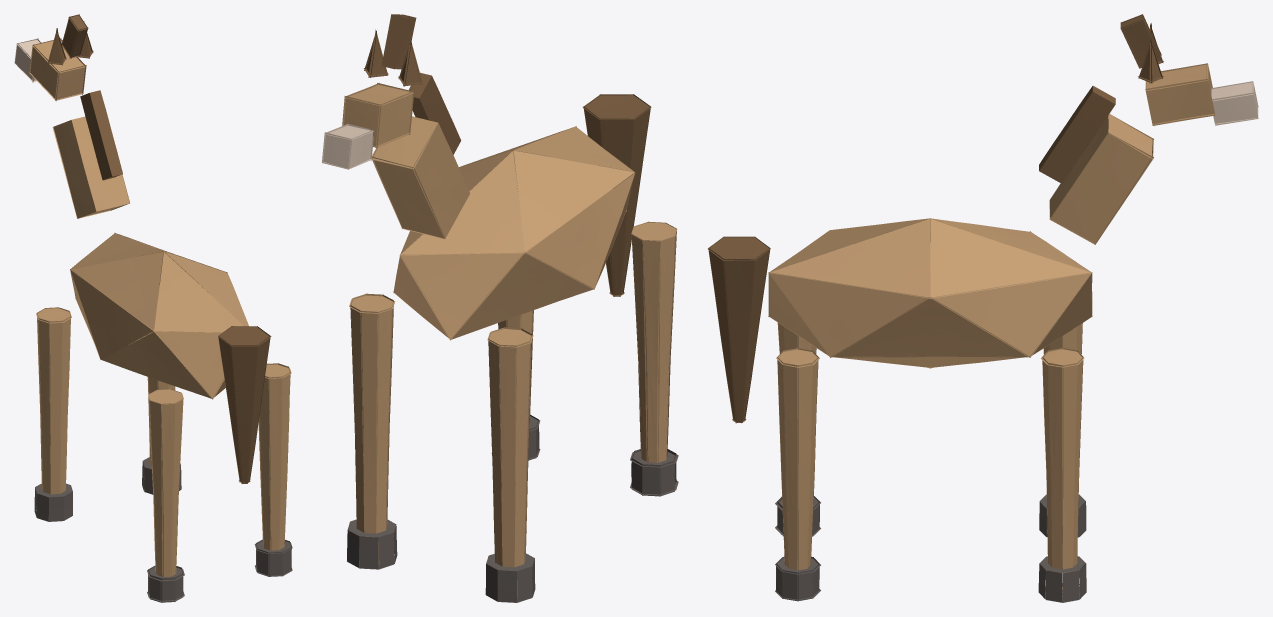
The model's file is horse.glb.
3 views of the same model, side by side, from view 1: azimuth 30°, elevation 25°; view 2: azimuth 150°, elevation 25°; view 3: azimuth 270°, elevation 25° (orthographic). The views are drawn at different scales.
Visible parts, largest first — view 1: HorseBody; view 2: HorseBody; view 3: HorseBody.
Part boxes in pixels (x1,y1,x2,y2): HorseBody: [14, 14, 292, 602]; HorseBody: [321, 14, 678, 602]; HorseBody: [708, 14, 1258, 602].
Bounding box in the file's own units: 0.7949 × 2.46 × 2.25.
